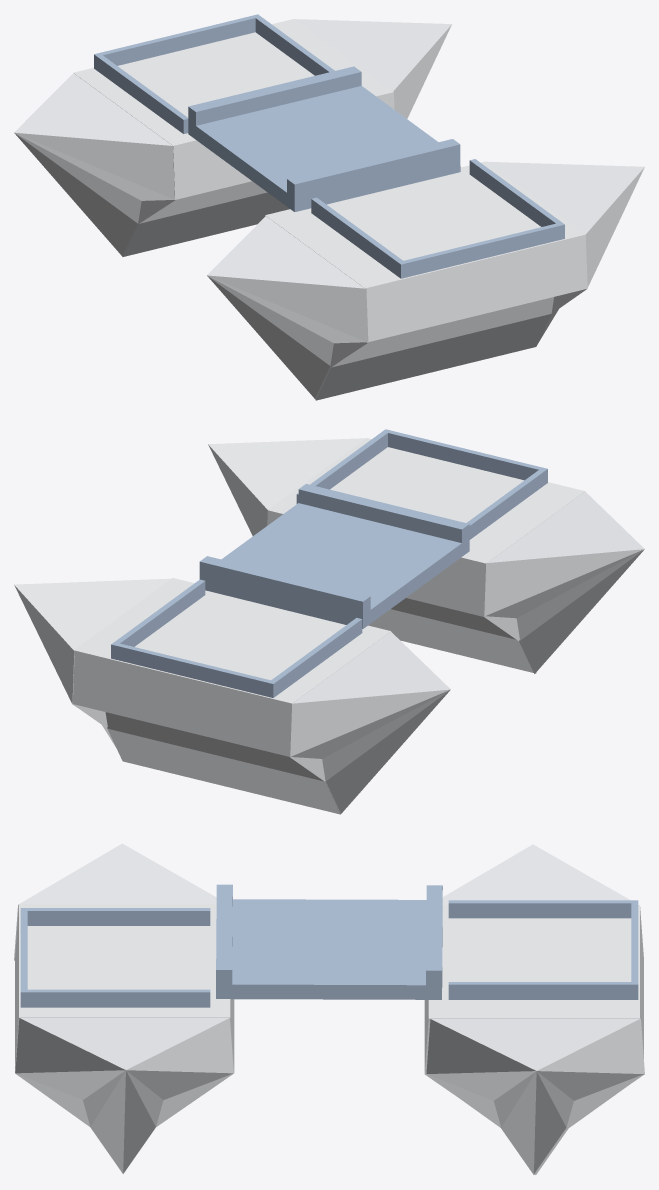
Rendered from boat.glb.
3 views of the same model, one above another, from view 1: azimuth 30°, elevation 25°; view 2: azimuth 150°, elevation 25°; view 3: azimuth 270°, elevation 25° (orthographic). The views are drawn at different scales.
Visible parts, largest first — view 1: hull_starboard, hull_port, deck_frame; view 2: hull_port, hull_starboard, deck_frame; view 3: hull_port, hull_starboard, deck_frame.
Boxes of the visible parts, bbox=[...] form: hull_starboard: bbox=[207, 161, 644, 400]; hull_port: bbox=[14, 19, 451, 256]; deck_frame: bbox=[94, 14, 564, 278]; hull_port: bbox=[14, 578, 450, 814]; hull_starboard: bbox=[208, 438, 644, 673]; deck_frame: bbox=[111, 429, 547, 697]; hull_port: bbox=[424, 844, 644, 1174]; hull_starboard: bbox=[14, 843, 234, 1173]; deck_frame: bbox=[20, 884, 638, 1007].
Size of the model in its own units: 0.3335 by 0.1287 by 0.3908.
